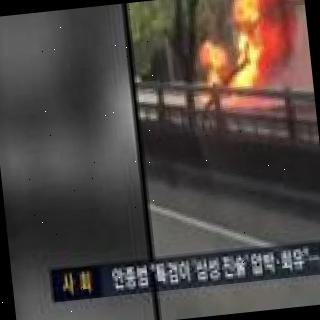fire: (217, 0, 293, 97), (199, 40, 222, 108)
